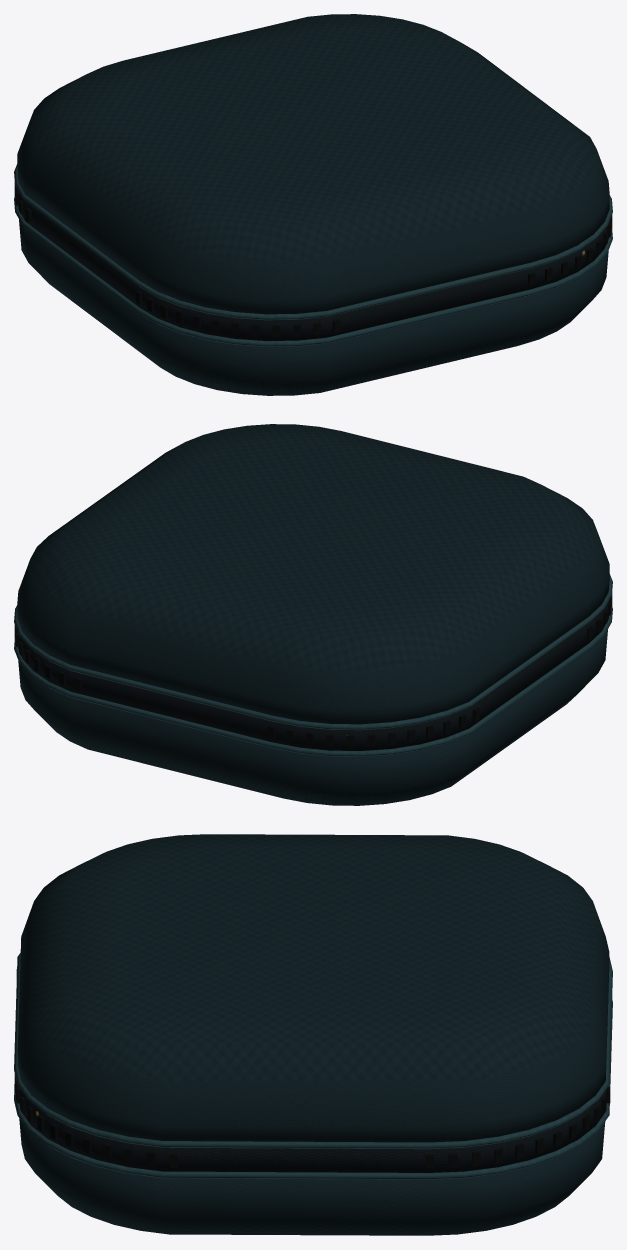
The model's file is bb_set_headphone_case.fbx.
3 views of the same model, one above another, from view 1: azimuth 30°, elevation 25°; view 2: azimuth 150°, elevation 25°; view 3: azimuth 270°, elevation 25° (orthographic). The views are drawn at different scales.
Parts seen in each view (by area): view 1: bb_set_headphone_case; view 2: bb_set_headphone_case; view 3: bb_set_headphone_case.
Boxes of the visible parts, x1,y1,x2,y2 form: bb_set_headphone_case: (14,14,612,395); bb_set_headphone_case: (14,424,612,805); bb_set_headphone_case: (14,834,612,1235).
Bounding box in the file's own units: 0.16 × 0.06 × 0.16.
